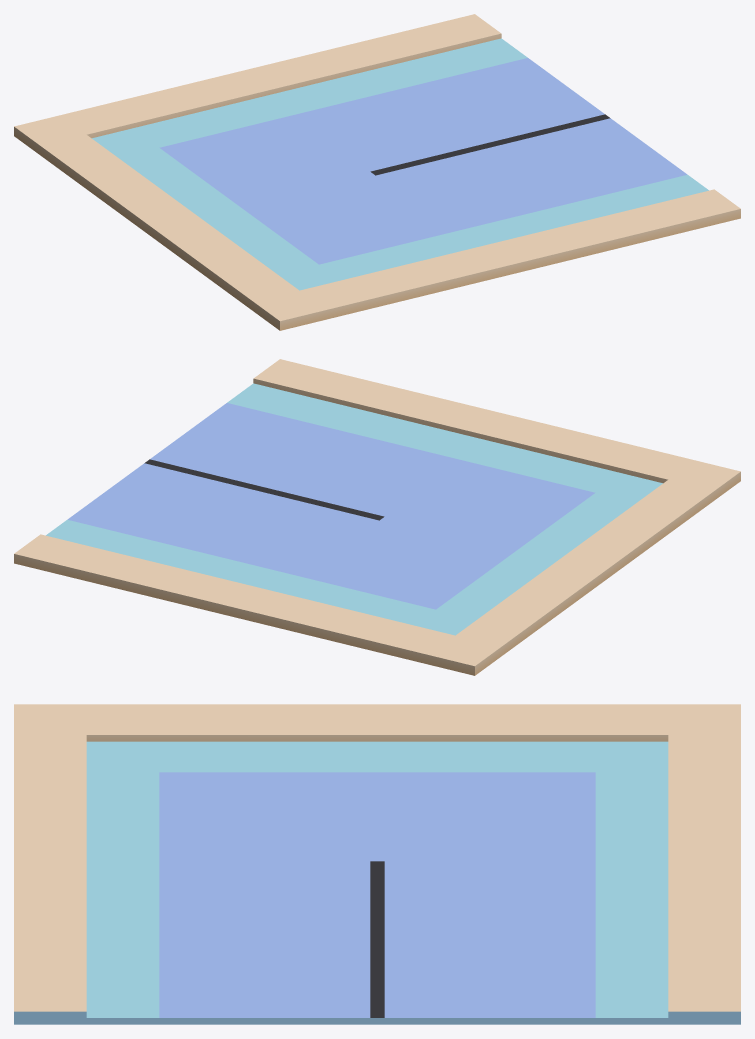
Rendered from road-end.glb.
3 views of the same model, one above another, from view 1: azimuth 30°, elevation 25°; view 2: azimuth 150°, elevation 25°; view 3: azimuth 270°, elevation 25° (orthographic). The views are drawn at different scales.
Visible parts, largest first — view 1: road-end; view 2: road-end; view 3: road-end.
Boxes of the visible parts, bbox=[...] form: road-end: bbox=[14, 14, 740, 330]; road-end: bbox=[14, 359, 740, 675]; road-end: bbox=[14, 704, 740, 1024].
Size of the model in its own units: 1 by 0.02 by 1.
